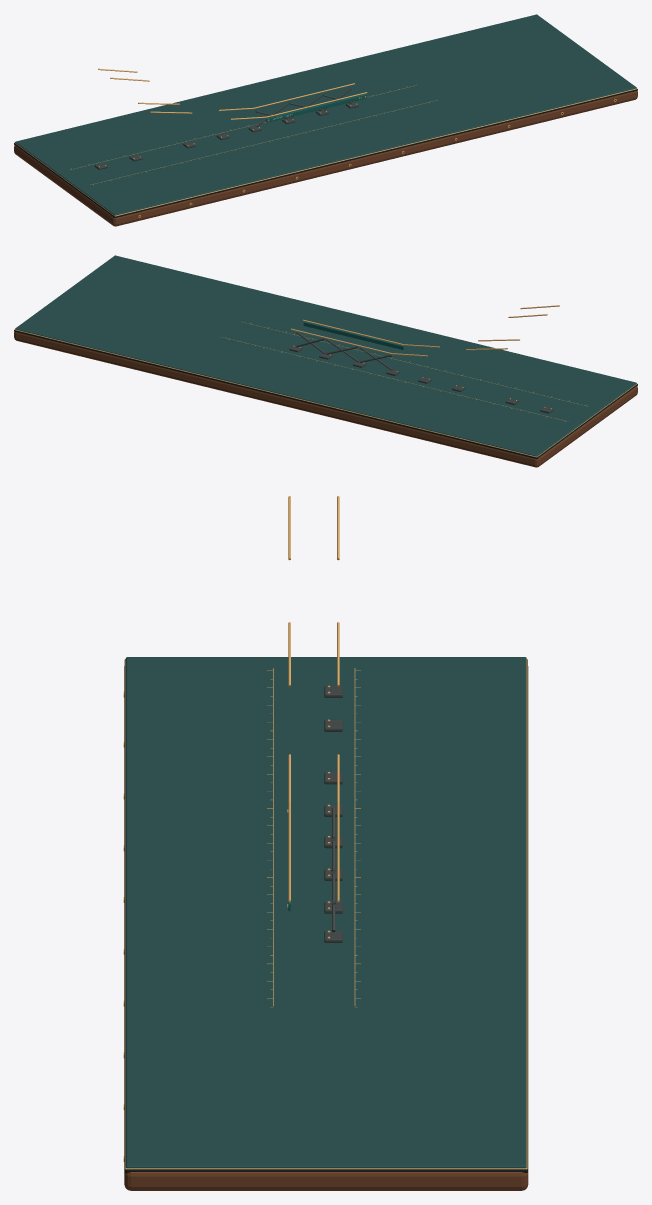
The model's file is display-table.glb.
3 views of the same model, one above another, from view 1: azimuth 30°, elevation 25°; view 2: azimuth 150°, elevation 25°; view 3: azimuth 270°, elevation 25° (orthographic). The views are drawn at different scales.
Parts seen in each view (by area): view 1: display-table; view 2: display-table; view 3: display-table.
Part boxes in pixels (x1=…): display-table: x1=14, y1=14, x2=637, y2=226; display-table: x1=14, y1=255, x2=637, y2=467; display-table: x1=123, y1=496, x2=528, y2=1190.
Bounding box in the file's own units: 29.7 × 6 × 9.92.
